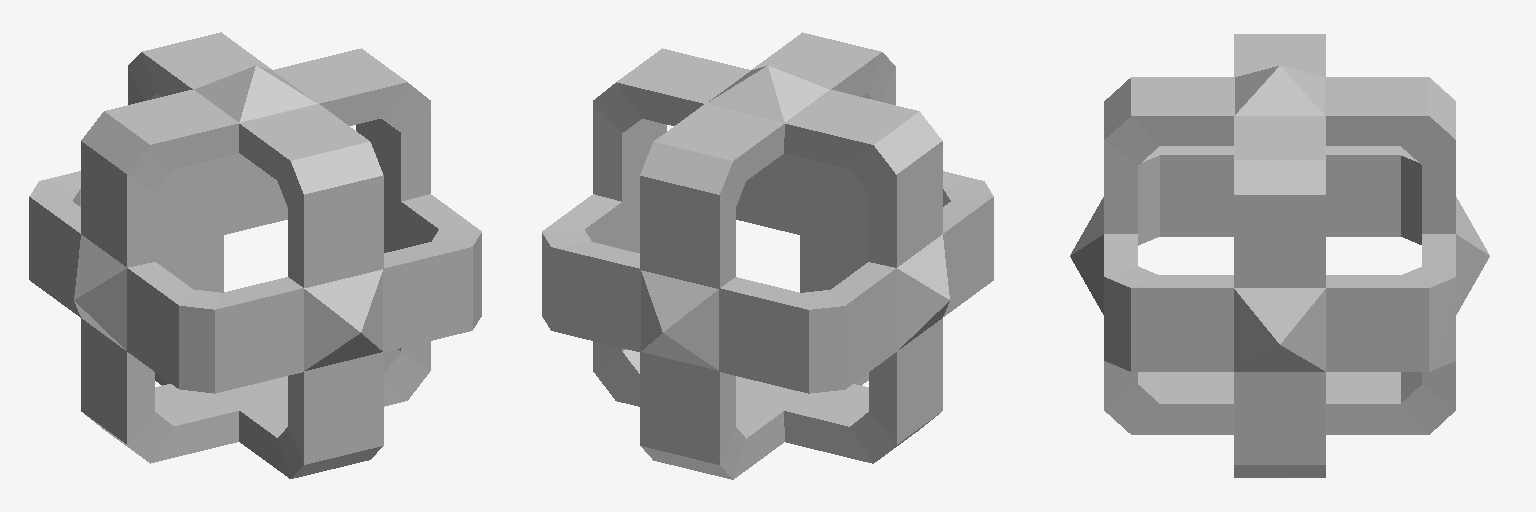
File: YK_Gyro_Base.obj
3 renders of one model, left to right at view 1: azimuth 30°, elevation 25°; view 2: azimuth 150°, elevation 25°; view 3: azimuth 270°, elevation 25°, orthographic.
Visible parts, largest first — view 1: BF_Block_111.002, BF_Block_111.000_BF_Block_111.004; view 2: BF_Block_111.002, BF_Block_111.000_BF_Block_111.004; view 3: BF_Block_111.002, BF_Block_111.000_BF_Block_111.004.
Boxes of the visible parts, box(x1,y1,x2,y2) form: BF_Block_111.002: box(29, 32, 481, 478); BF_Block_111.000_BF_Block_111.004: box(74, 66, 382, 370); BF_Block_111.002: box(542, 32, 993, 479); BF_Block_111.000_BF_Block_111.004: box(641, 66, 949, 370); BF_Block_111.002: box(1104, 34, 1455, 477); BF_Block_111.000_BF_Block_111.004: box(1070, 66, 1489, 371).
Bounding box in the file's own units: 1.2 × 1.2 × 1.2.